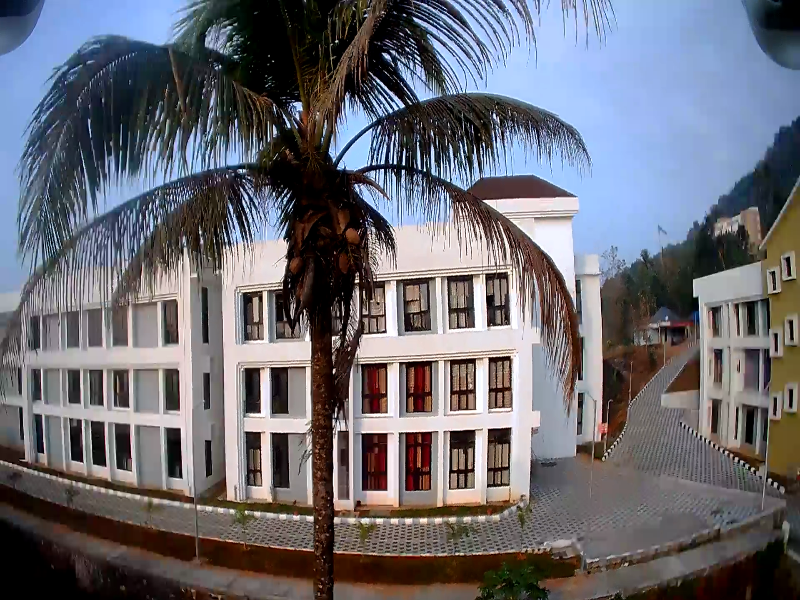coconut: (279, 257, 299, 275), (345, 223, 361, 239), (335, 252, 349, 269)
